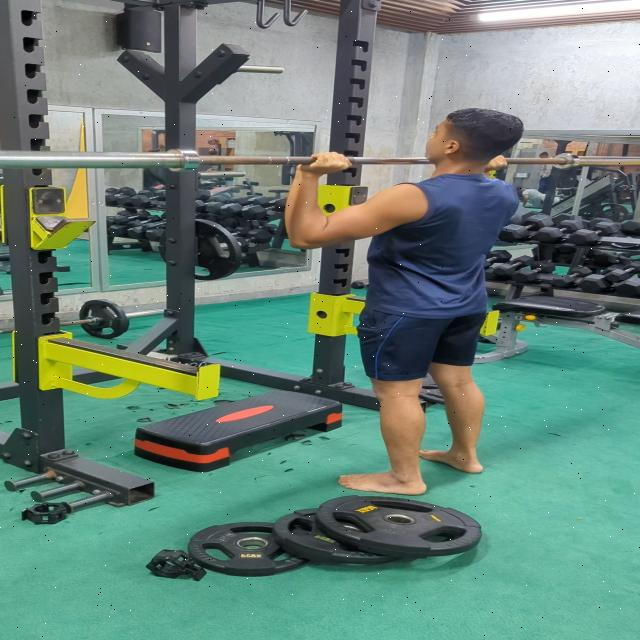Normal_OverheadPress: (288, 95, 540, 487)
